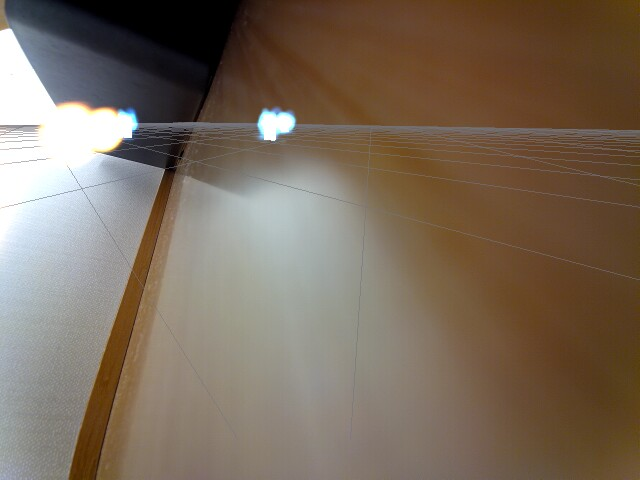firebig: (37, 93, 94, 171)
